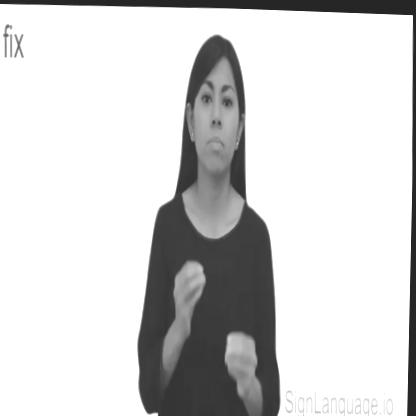Fix: (130, 28, 289, 416)
